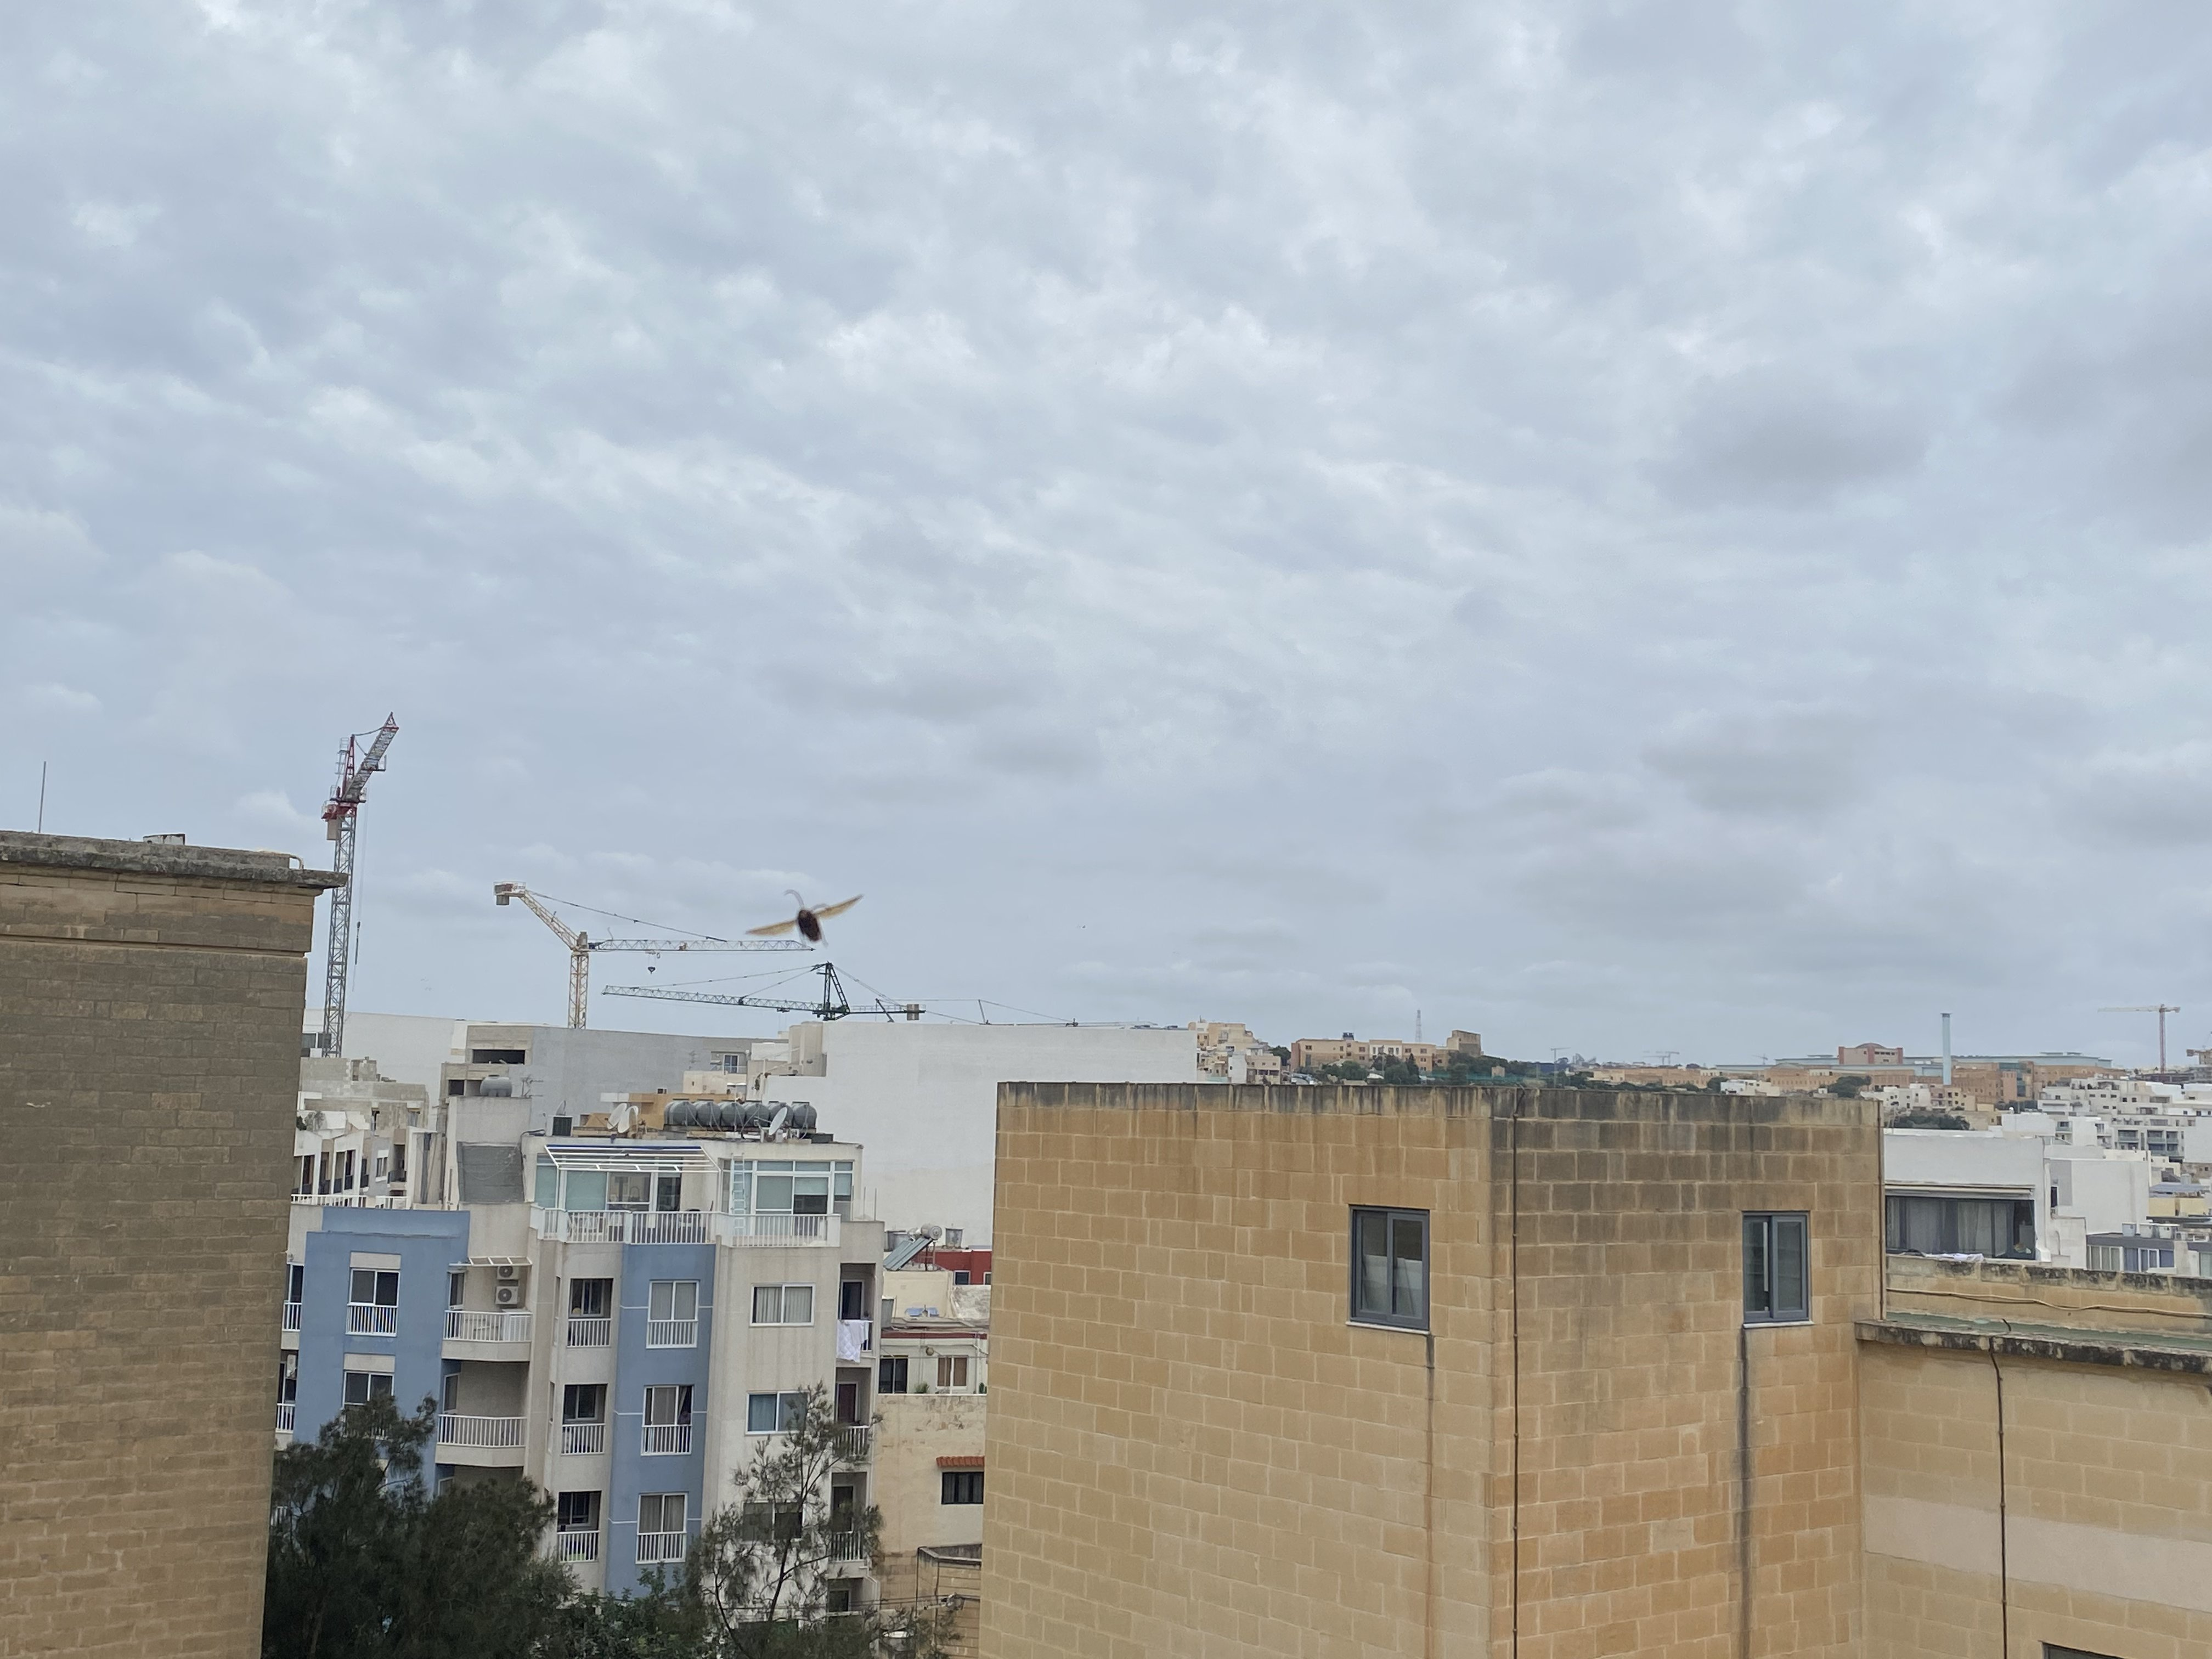crane: (472, 854, 762, 974), (579, 959, 970, 1017), (306, 661, 414, 860)
